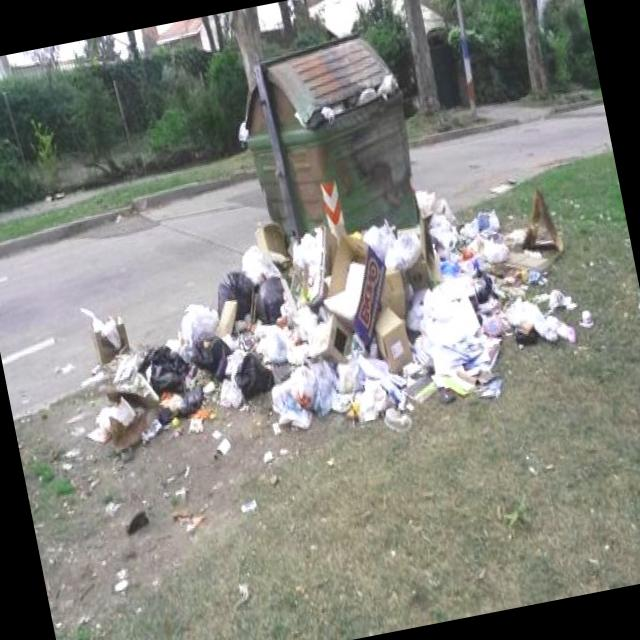high trash: (76, 180, 577, 460)
